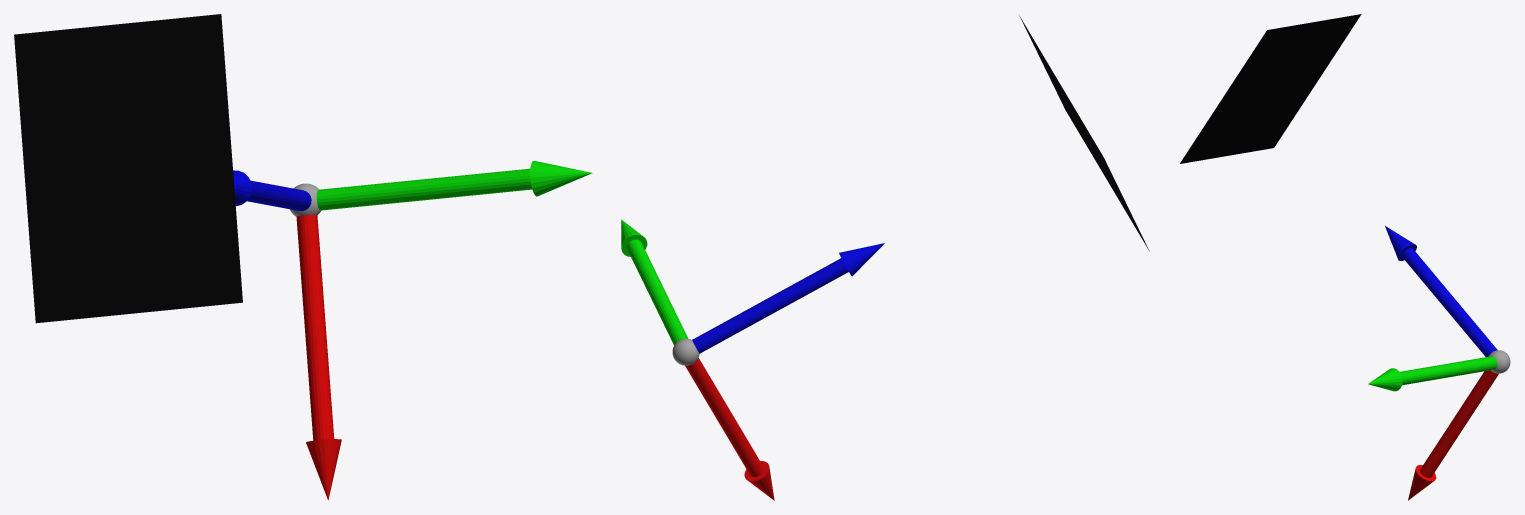
The picture shows the model from 3 angles, left to right: view 1: azimuth 30°, elevation 25°; view 2: azimuth 150°, elevation 25°; view 3: azimuth 270°, elevation 25°; orthographic projection. The views are drawn at different scales.
Bounding box in the file's own units: 0.3014 × 0.2832 × 0.211.
